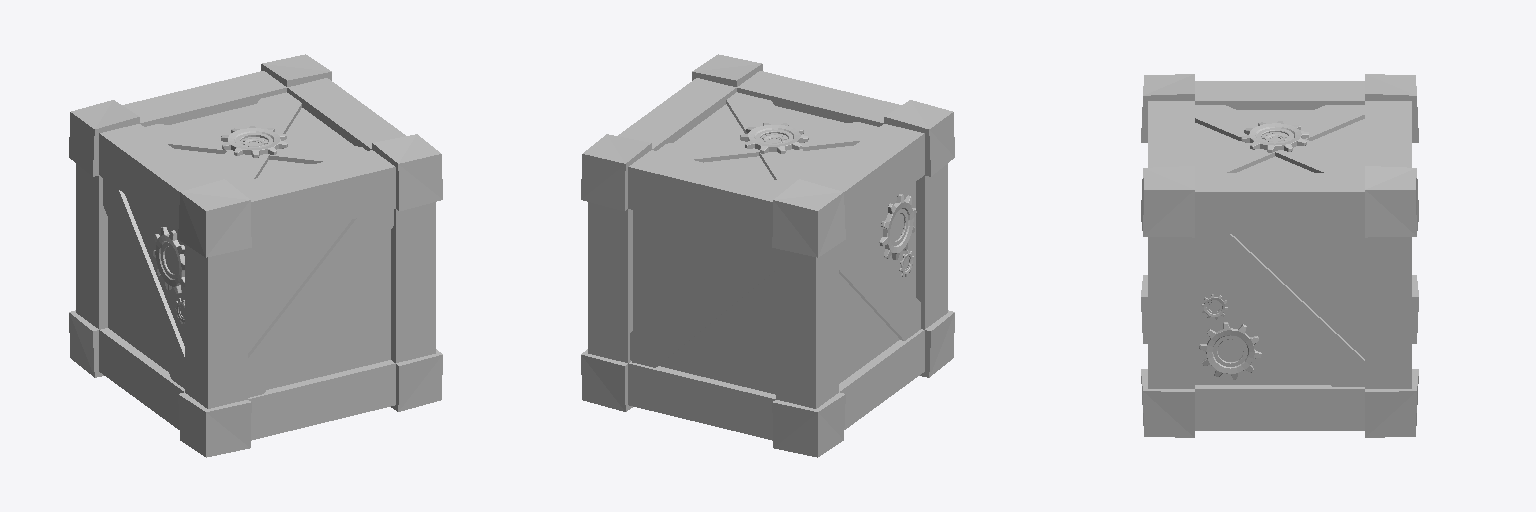
File: crate3.obj
3 views of the same model, side by side, from view 1: azimuth 30°, elevation 25°; view 2: azimuth 150°, elevation 25°; view 3: azimuth 270°, elevation 25° (orthographic).
Visible parts, largest first — view 1: pasted__BottomPlank2 unitycrate3, unitycrate3 pasted__InnerBox, unitycrate3 SideMGear; view 2: pasted__BottomPlank2 unitycrate3, unitycrate3 pasted__InnerBox, unitycrate3 SideMGear; view 3: pasted__BottomPlank2 unitycrate3, unitycrate3 pasted__InnerBox, unitycrate3 SideMGear.
Part boxes in pixels (x1,y1,x2,y2): pasted__BottomPlank2 unitycrate3: (69,54,442,457); unitycrate3 pasted__InnerBox: (108,104,390,389); unitycrate3 SideMGear: (153,126,287,323); pasted__BottomPlank2 unitycrate3: (581,54,954,457); unitycrate3 pasted__InnerBox: (633,104,915,394); unitycrate3 SideMGear: (740,123,916,276); pasted__BottomPlank2 unitycrate3: (1141,74,1418,437); unitycrate3 pasted__InnerBox: (1195,110,1364,384); unitycrate3 SideMGear: (1199,121,1308,379).
Size of the model in its own units: 2.86 by 2.86 by 2.86.